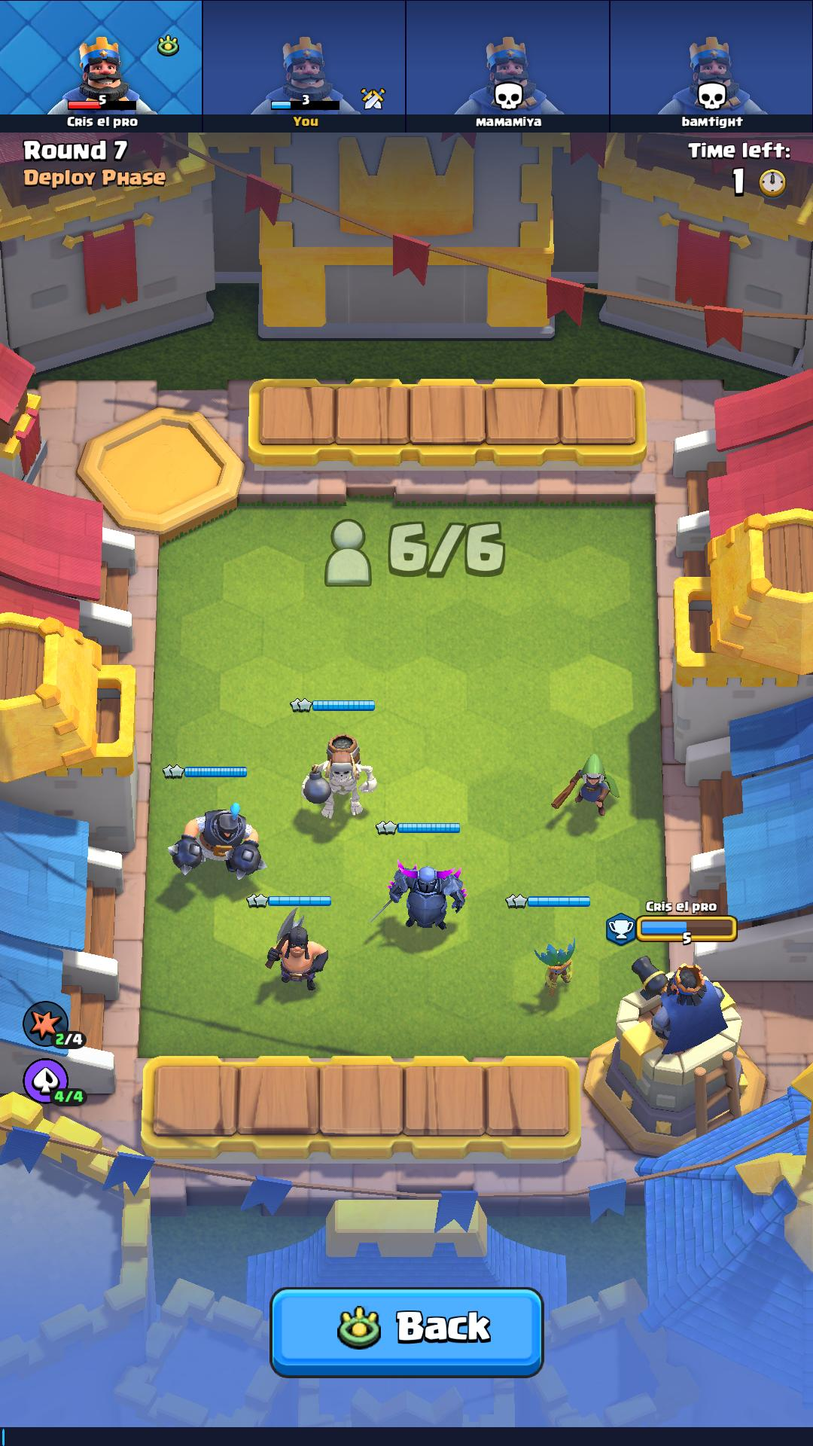bandit: (545, 741, 627, 834)
dart: (526, 934, 583, 1000)
executioner: (260, 909, 333, 991)
giant: (293, 730, 381, 821)
mega: (154, 805, 272, 879)
pekka: (364, 859, 473, 934)
